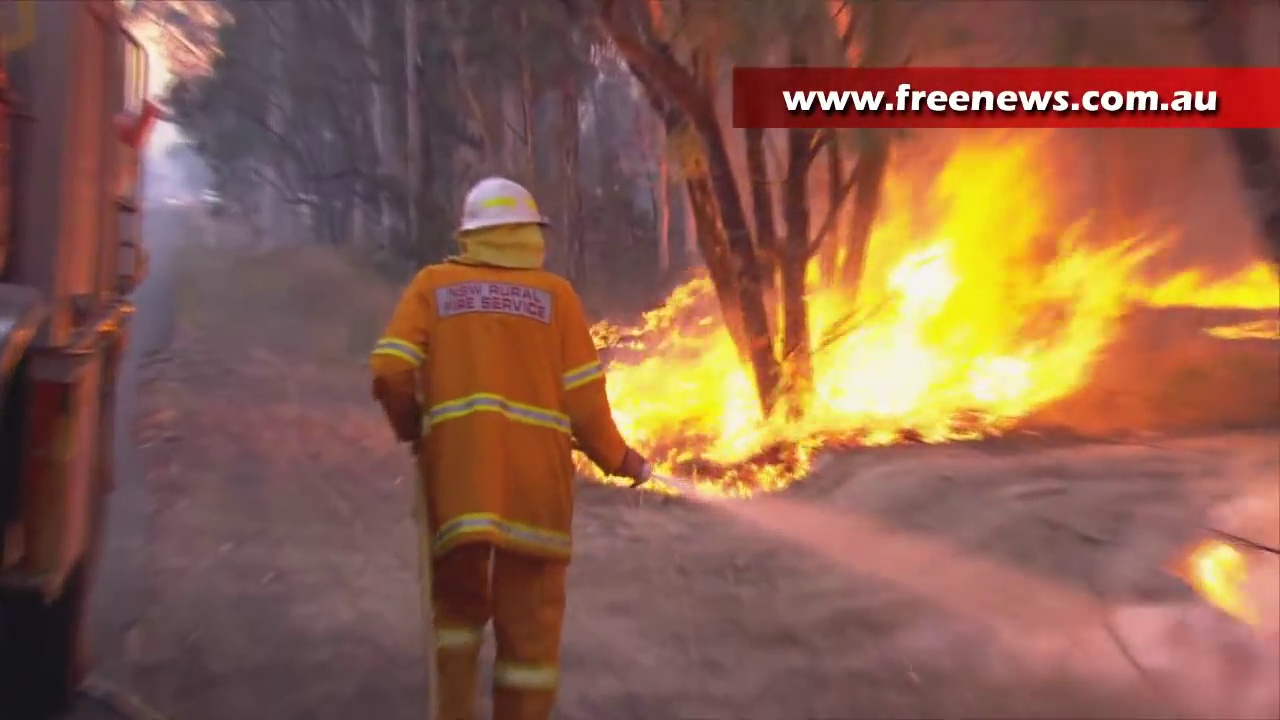fire: (816, 168, 1095, 427), (597, 344, 796, 482), (1141, 267, 1274, 307), (1187, 542, 1245, 615), (643, 273, 708, 334)
